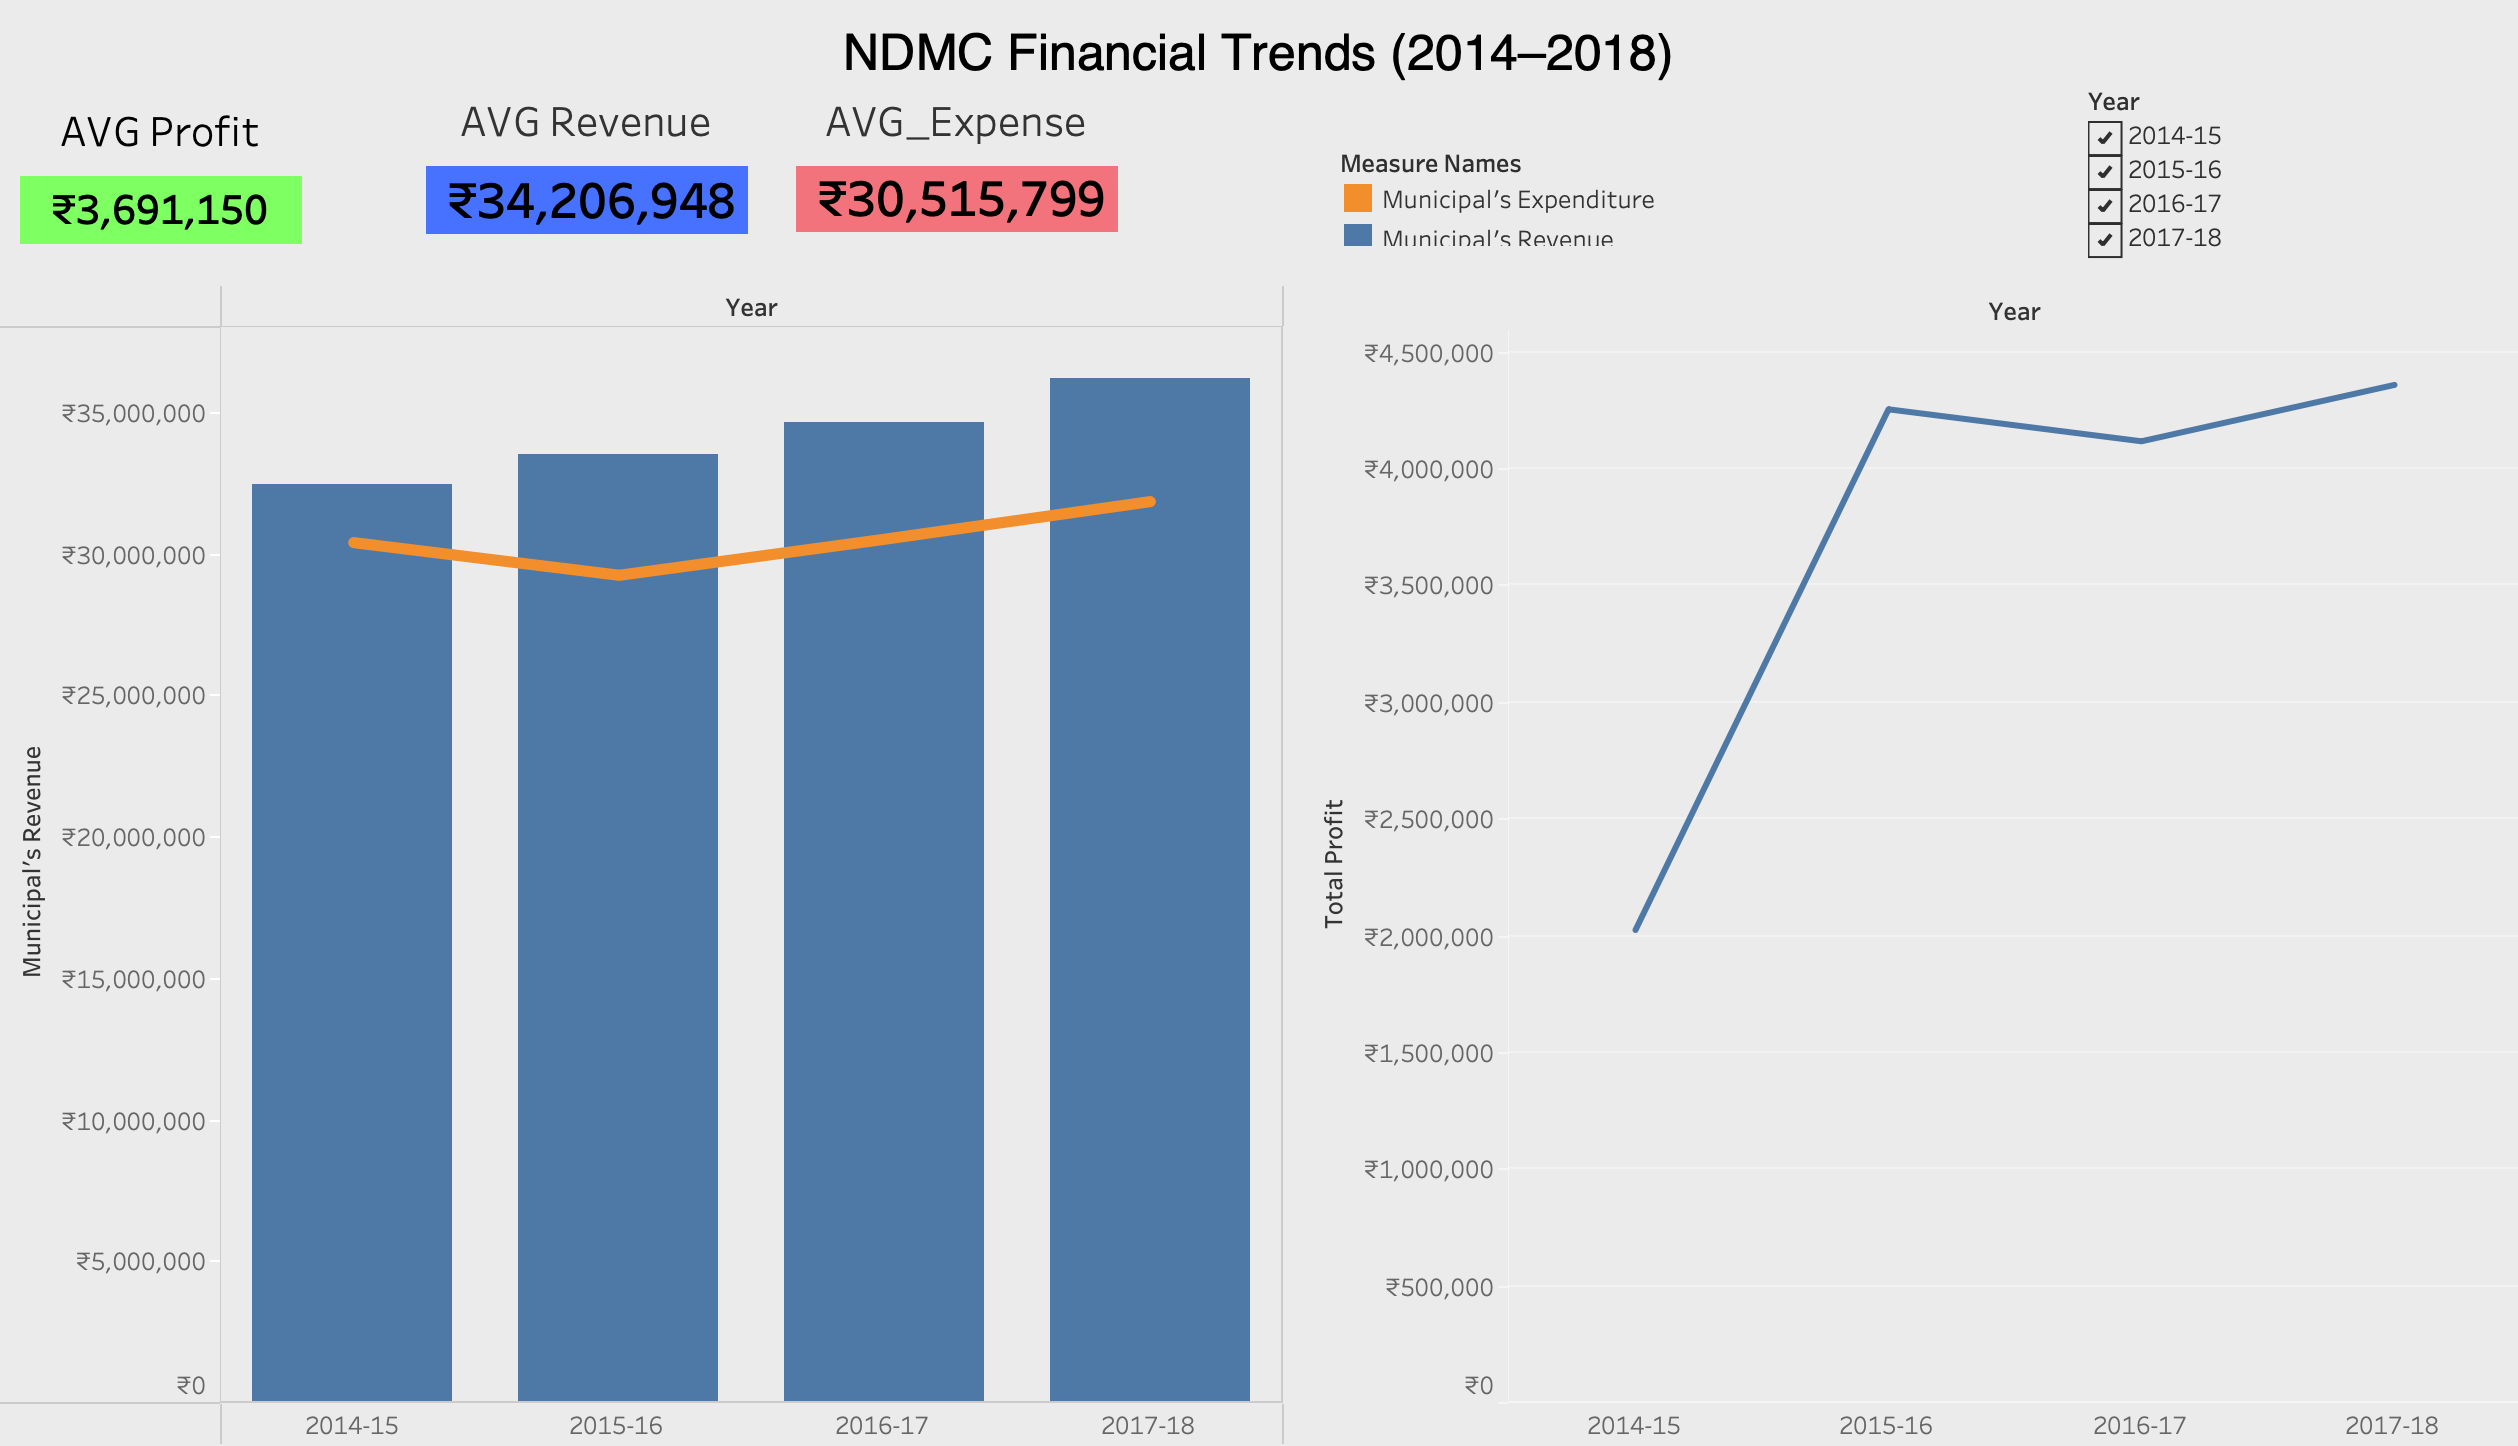

This screenshot's page, from the dashboard's own definition file:
{"tool":"tableau","page":{"name":"Dashboard 1","canvas":[1000,1000],"units":"permille","ordinal":0},"visuals":[{"type":"title","box":[6.4,11.1,987.3,65]},{"type":"worksheet","title":"Avg_Revenue","mark":"Automatic","box":[168.8,55.6,254,148.6]},{"type":"worksheet","title":"Avg_exp","mark":"Automatic","box":[316.1,55.6,254,165.5]},{"type":"filter","title":"revenue/expenditure","param":"[federated.075hhzm16pnd0z1h3f96q0l71paq].[none:Year:nk]","box":[829.6,56.8,160,149.8]},{"type":"worksheet","title":"avg_profit","mark":"Automatic","box":[8,61.6,175.2,144.9]},{"type":"legend","title":"revenue/expenditure","param":"[federated.075hhzm16pnd0z1h3f96q0l71paq].[:Measure Names]","box":[531,97.8,162.4,72.5]},{"type":"worksheet","title":"revenue/expenditure","mark":"Bar","rows":["Municipal's Revenue","Municipal's Expenditure"],"cols":["Year"],"box":[0,197.5,510,802.5]},{"type":"worksheet","title":"Profit","mark":"Line","rows":["Total Profit"],"cols":["Year"],"box":[517,200,484,798.8]}]}

Visuals, with their boxes on the dashboard's canvas, which has no fixed pixel size, in thousandths of its width and height (x1, y1, x2, y2). These are canvas units, not pixel positions in the 2518x1446 screenshot, which may show the page scaled, cropped or inside an application window:
title: (x1=6, y1=11, x2=994, y2=76)
"Avg_Revenue" worksheet: (x1=169, y1=56, x2=423, y2=204)
"Avg_exp" worksheet: (x1=316, y1=56, x2=570, y2=221)
"revenue/expenditure" filter: (x1=830, y1=57, x2=990, y2=207)
"avg_profit" worksheet: (x1=8, y1=62, x2=183, y2=206)
"revenue/expenditure" legend: (x1=531, y1=98, x2=693, y2=170)
"revenue/expenditure" worksheet (Bar marks): (x1=0, y1=198, x2=510, y2=1000)
"Profit" worksheet (Line marks): (x1=517, y1=200, x2=1001, y2=999)
